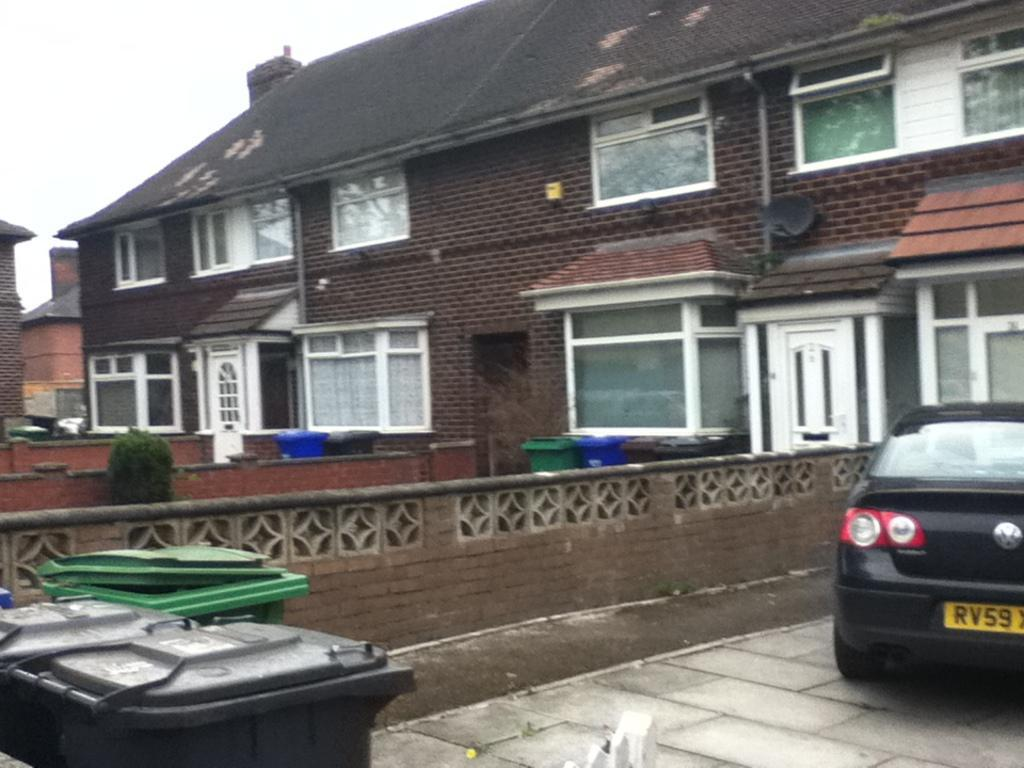License_Plate: (940, 601, 1023, 633)
